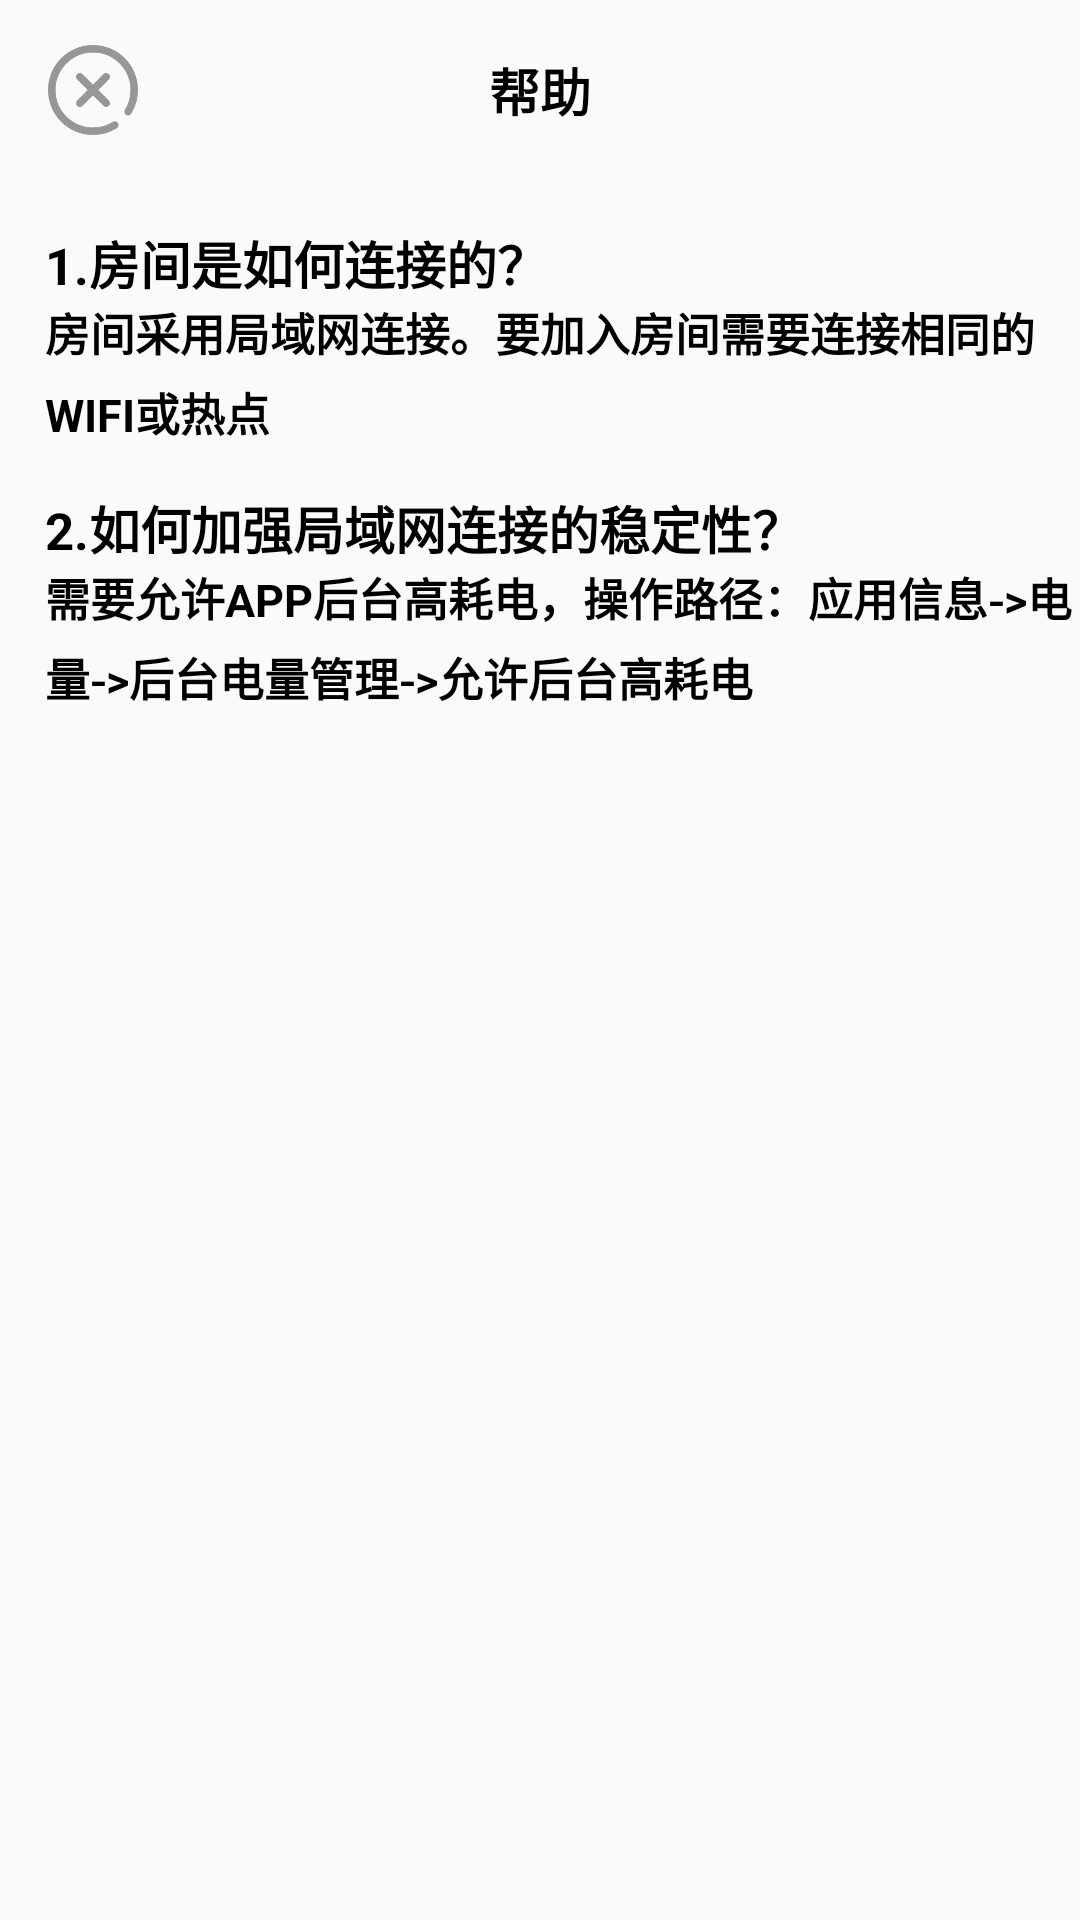

Icons on this 1080w x 1920h Android screen, each with the point to tap as (x,y):
close: (93,90)
